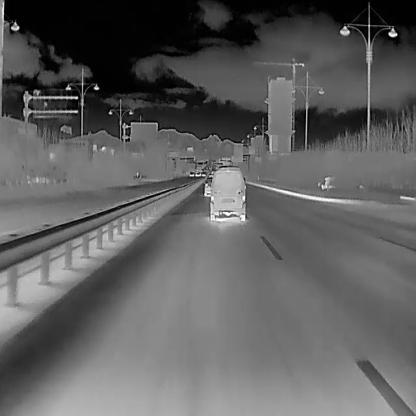car: (209, 165, 246, 222), (204, 180, 210, 196), (188, 170, 193, 176), (195, 172, 200, 176), (202, 172, 206, 176)
